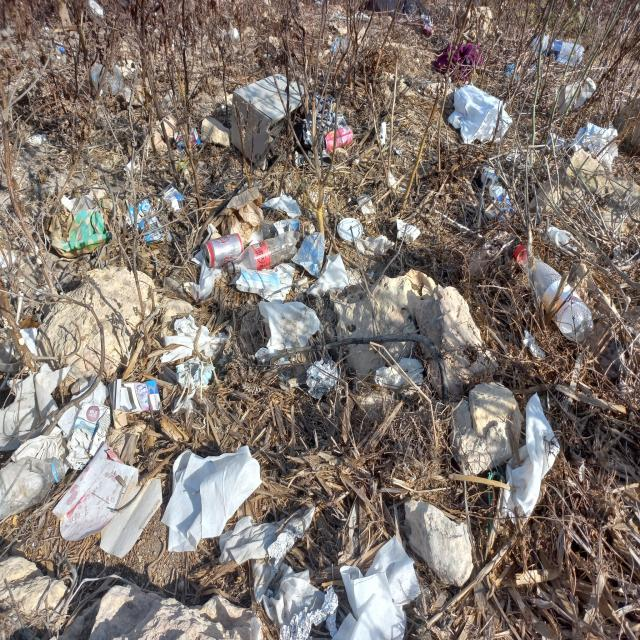Aluminium foil: (216, 506, 339, 640), (306, 358, 339, 399)
Bottle: (513, 244, 595, 343), (0, 456, 66, 520), (227, 231, 298, 276), (532, 35, 585, 66), (90, 63, 124, 96)
Can: (202, 232, 244, 268), (324, 126, 353, 152)
Carton: (10, 376, 111, 473), (231, 73, 305, 171), (123, 184, 187, 246), (107, 378, 163, 429), (173, 127, 201, 152)
Lid: (337, 217, 364, 242)
Other litter: (159, 444, 264, 553), (331, 533, 423, 640), (500, 392, 561, 531), (48, 199, 120, 259), (296, 91, 348, 168), (447, 85, 512, 145), (160, 313, 230, 366), (183, 222, 226, 303), (229, 264, 296, 303), (173, 358, 217, 414), (305, 252, 350, 298), (433, 42, 483, 83), (373, 358, 424, 393), (291, 231, 326, 279), (260, 187, 302, 218), (364, 0, 430, 19), (544, 226, 577, 261), (356, 234, 395, 257), (521, 329, 546, 359), (273, 218, 300, 244), (396, 218, 421, 245), (60, 194, 96, 211), (87, 0, 104, 27), (356, 194, 377, 214), (228, 27, 240, 41), (379, 122, 386, 145), (421, 15, 433, 28), (423, 25, 432, 36), (393, 147, 402, 156)
Other plastic: (254, 300, 324, 381), (246, 220, 275, 247), (124, 156, 140, 177), (331, 36, 350, 52), (504, 61, 519, 81), (59, 46, 65, 53)
Paper: (51, 441, 163, 560), (544, 122, 618, 173), (206, 186, 265, 244), (481, 165, 516, 229), (555, 77, 597, 113)
